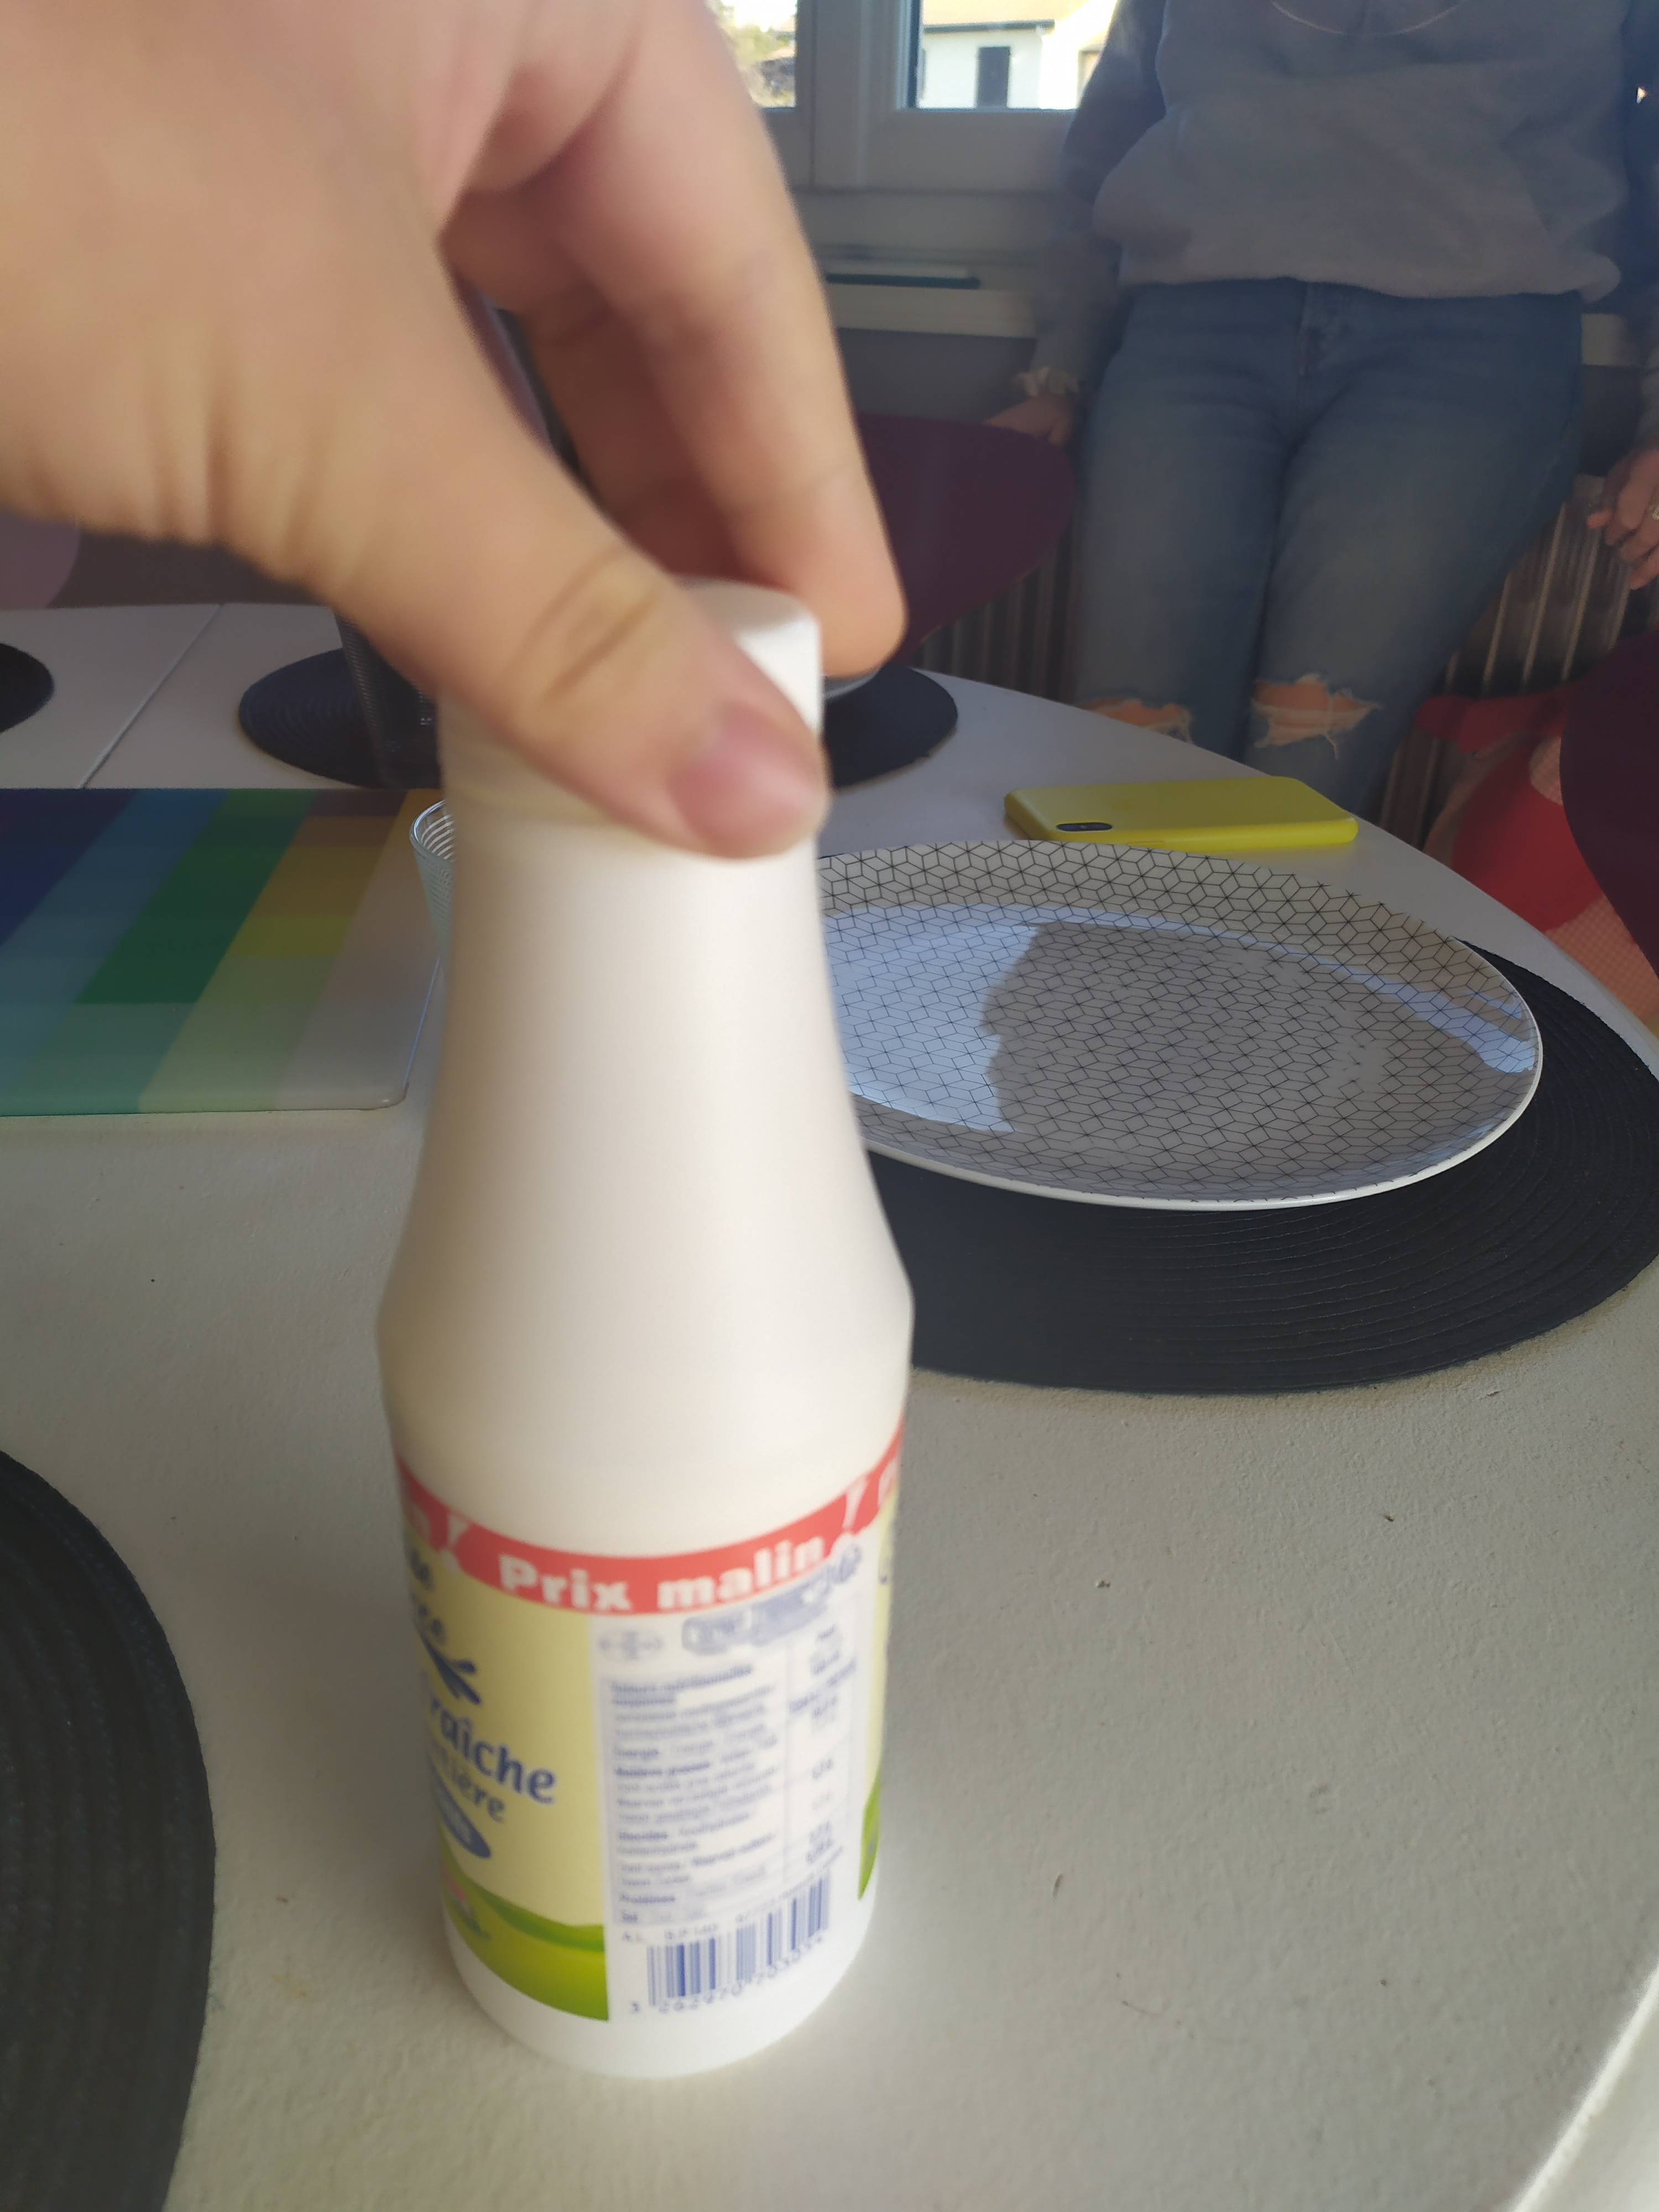bottle: (385, 573, 890, 2060)
